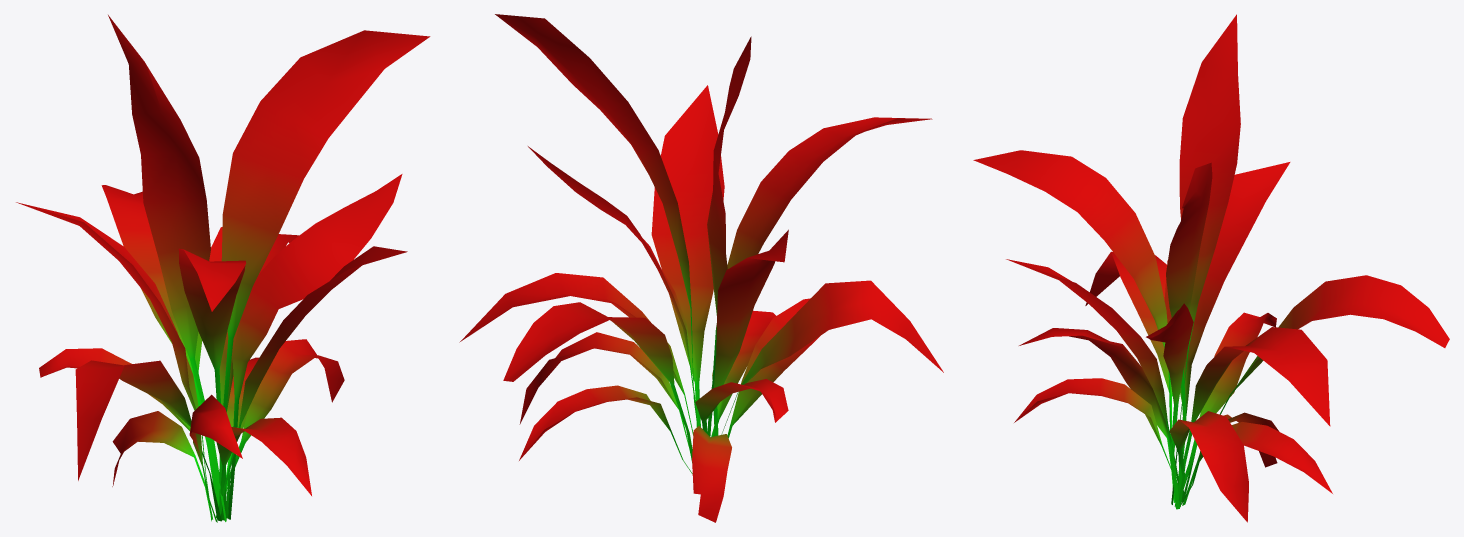
File: Cast - Iron Plant_LOD1_Var3_shdmr.fbx
The picture shows the model from 3 angles, left to right: view 1: azimuth 30°, elevation 25°; view 2: azimuth 150°, elevation 25°; view 3: azimuth 270°, elevation 25°; orthographic projection. The views are drawn at different scales.
Visible parts, largest first — view 1: _346c_Var3_LOD1; view 2: _346c_Var3_LOD1; view 3: _346c_Var3_LOD1.
Boxes of the visible parts, left/top/right/bottom form: _346c_Var3_LOD1: left=16, top=15, right=430, bottom=522; _346c_Var3_LOD1: left=459, top=14, right=943, bottom=522; _346c_Var3_LOD1: left=973, top=14, right=1449, bottom=522.
Size of the model in its own units: 73.33 by 86.91 by 82.37.
